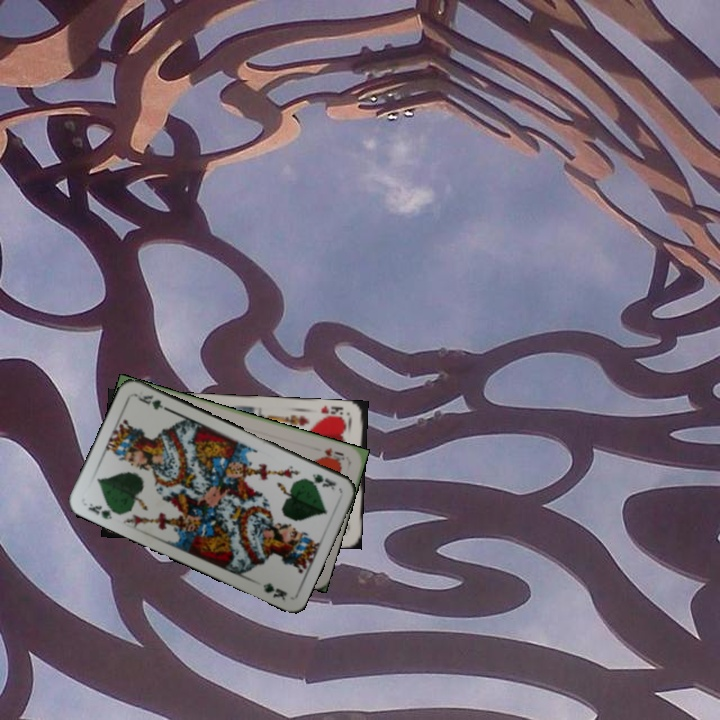GK: (84, 499, 121, 522), (301, 470, 339, 492)
HK: (314, 402, 346, 422)
HO: (317, 444, 347, 465)
